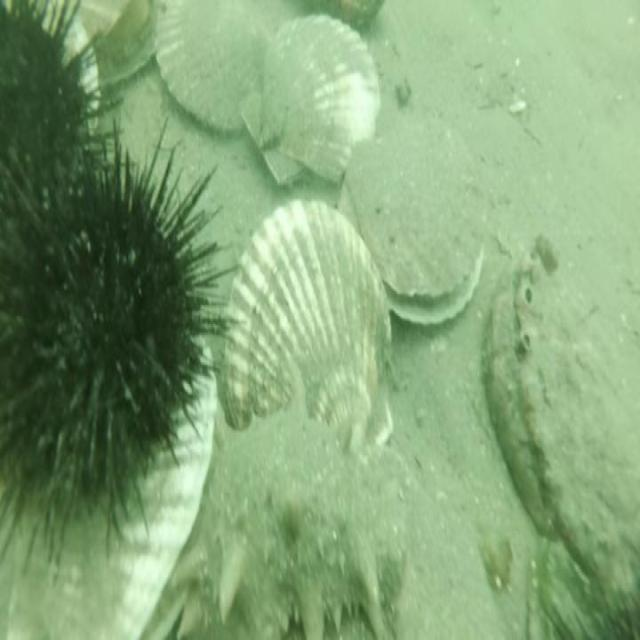echinus: (0, 131, 217, 536), (0, 0, 116, 237)
holothurian: (169, 474, 414, 640)
scallop: (222, 191, 399, 454), (342, 128, 486, 335), (235, 11, 384, 199), (151, 0, 276, 139), (42, 0, 102, 142)
